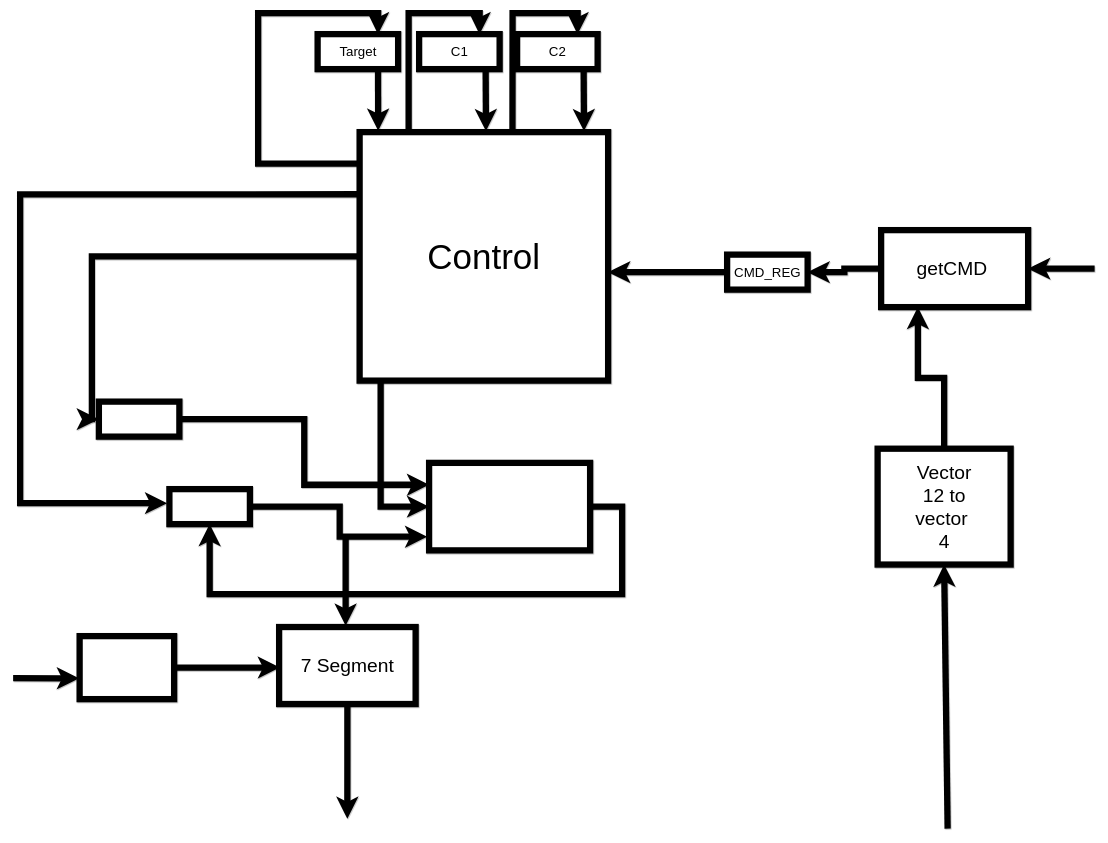
The diagram is 1108 pixels wide and 843 high, and some of its shapes have lost their labels. The shapes that lost their labels are listed below. From the top down, each one's centre as x and y in pixels, then its label:
At point 139,419: "Sens".
At point 210,507: "et_crt_reg".
At point 509,507: "Numarator".
At point 127,668: "Divizor de frecventa".
